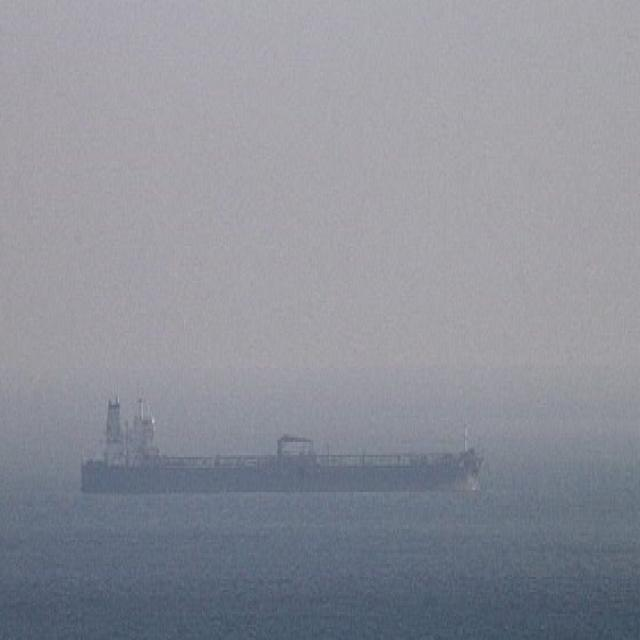cargoship: (79, 379, 486, 494)
